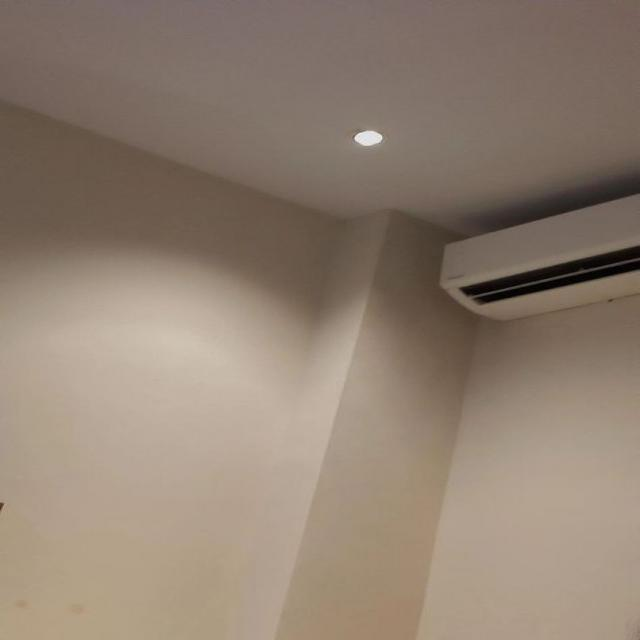AC: (439, 190, 639, 320)
